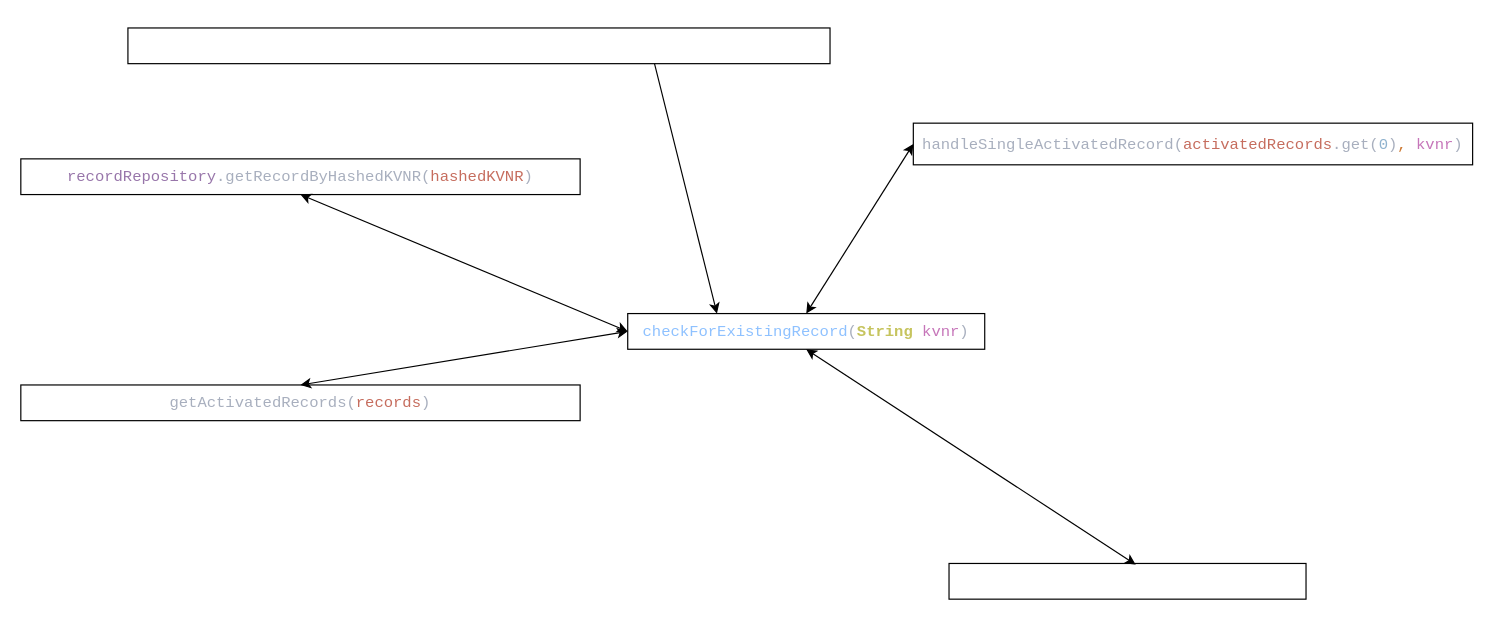
Image size: 1493x626. Some labels were removed from this diagram. The centre of each missing label's shape, as x and y in pixels:
"checkForExistingRecord ( @HeaderParam ( INSURANT_ID_HEADER_NAME ) String kvnr )" goes at pixel 478 45.
"processRecordProviders ( String kvnr )" goes at pixel 1127 580.
